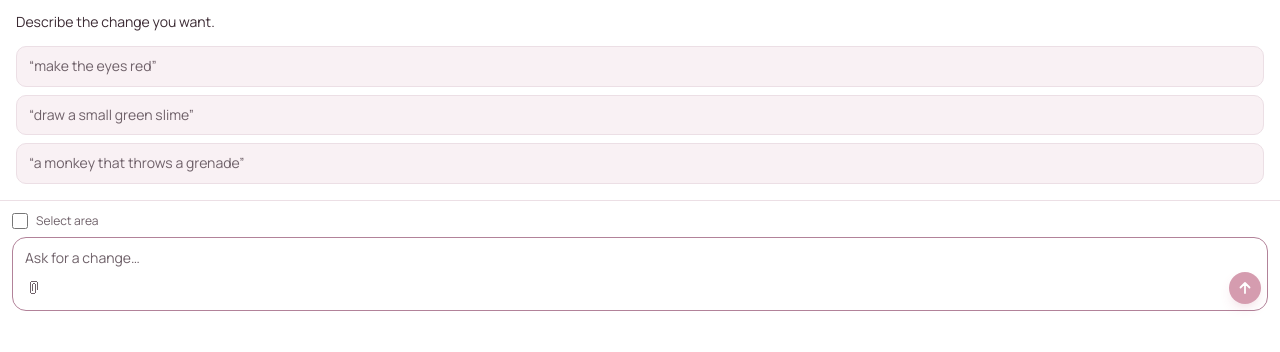
AI chat submission › shows transport errors instead of silently returning the prompt
expect the button named "Send" is disabled: met, box [1229,272,1261,304]
Type "draw a blood mage" into the text box named "Message" at (640, 255), box [13,238,1267,272]
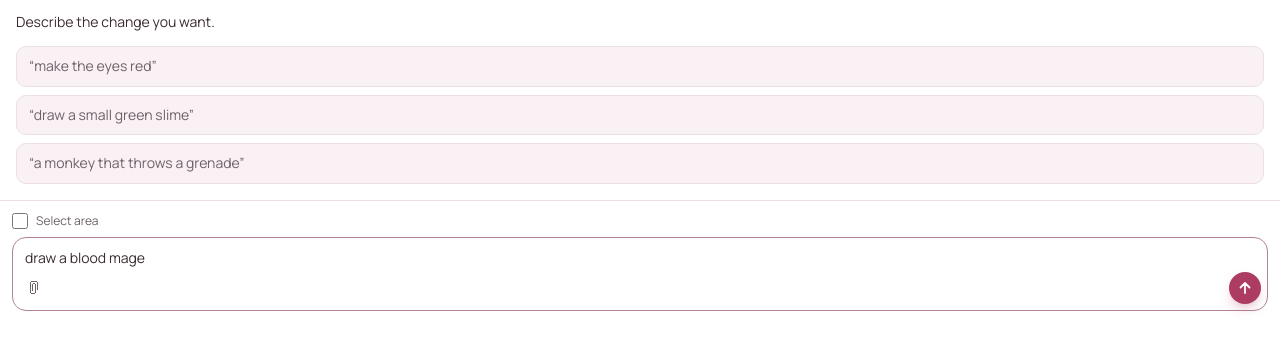
expect the button named "Send" is enabled: met
Click the button named "Send" at (1245, 288), box [1229,272,1261,304]
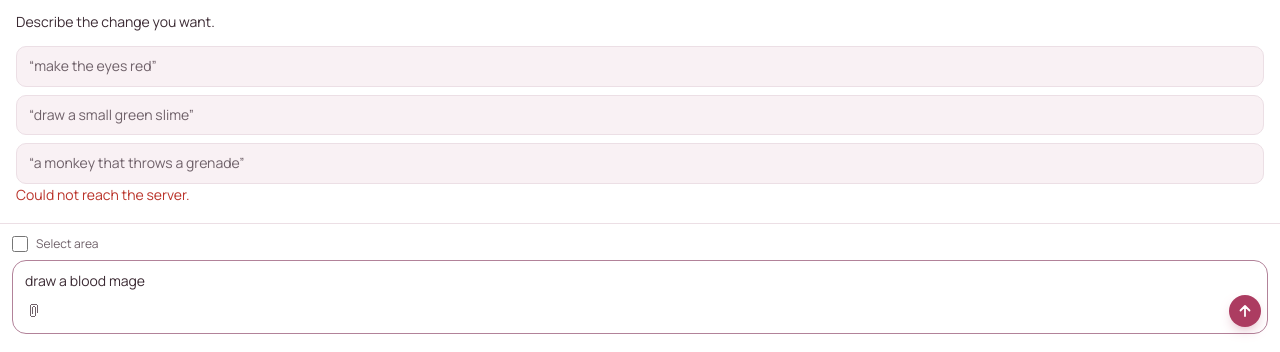
expect the list item "Could not reach the server." is shown: met, box [16,185,190,204]
